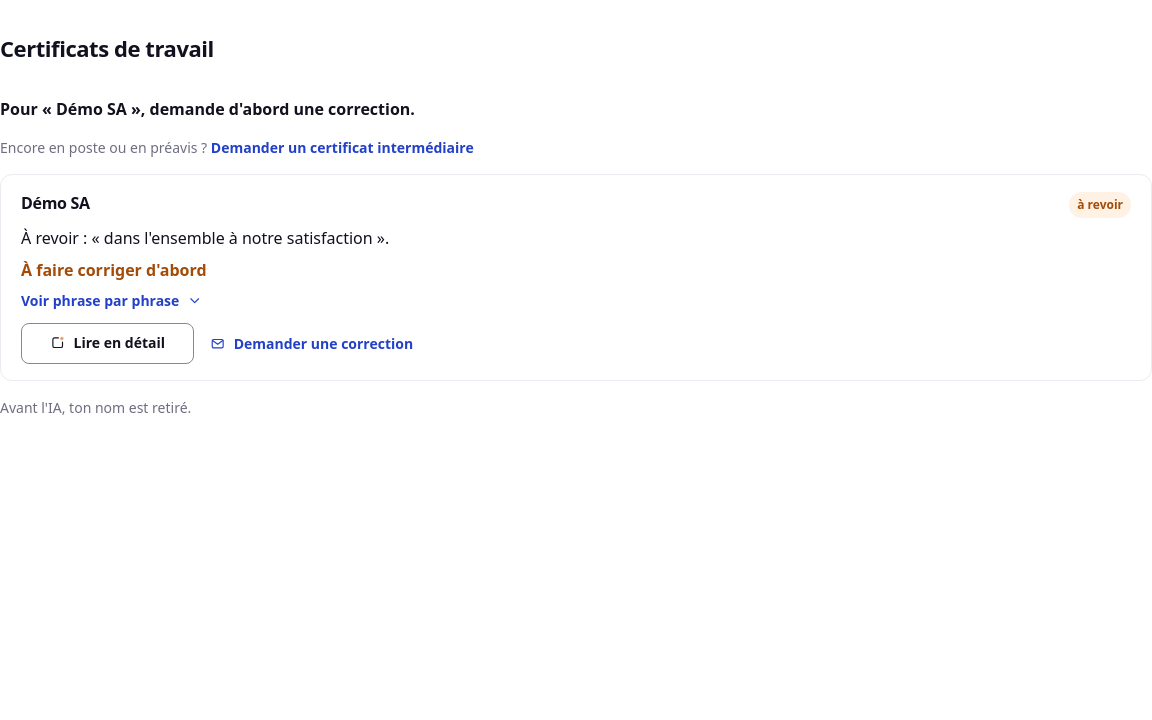
Certificats de travail › la lettre de correction, puis rédigée par l'IA ; le certificat intermédiaire (0.69.1)
Click the button with test id "certificate-correction-2": click(312, 344) [210, 333, 413, 354]
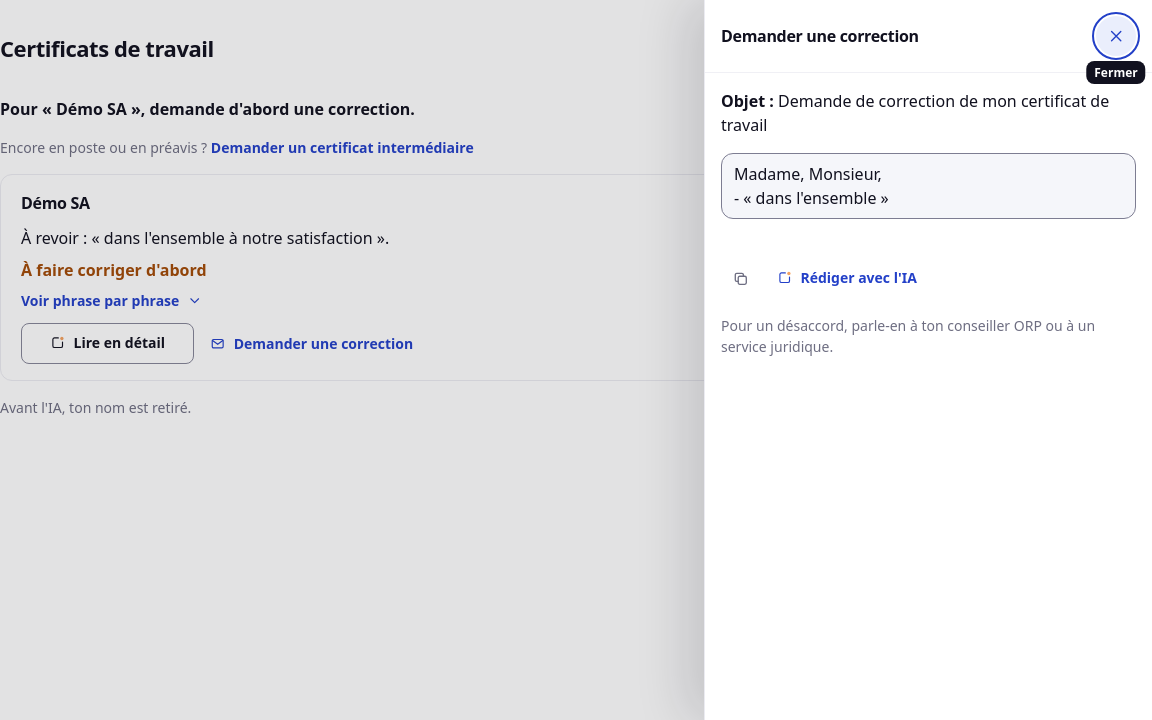
expect the element with test id "certificate-letter" shows "Demande de correction de mon certificat de travail": met, box [721, 90, 1109, 136]
Click the button with test id "certificate-letter-ai": click(847, 279) [777, 267, 917, 291]
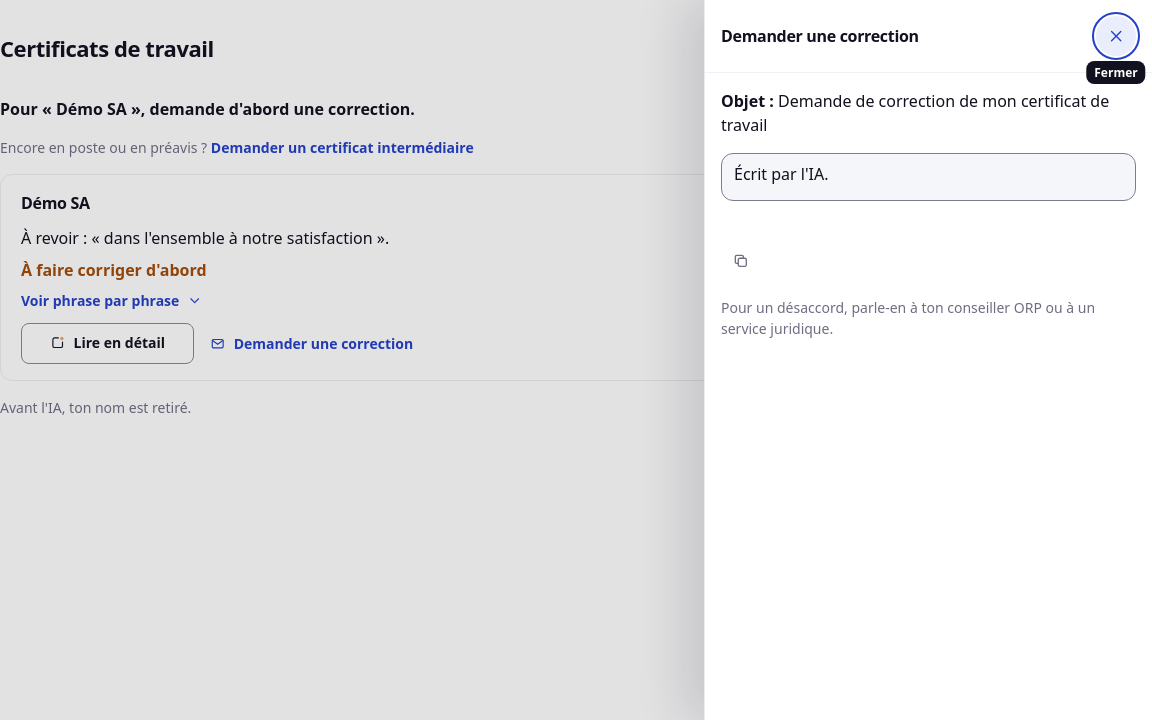
expect the text box with test id "certificate-letter-text" holds "Écrit par l'IA.": met, box [721, 153, 1136, 201]
